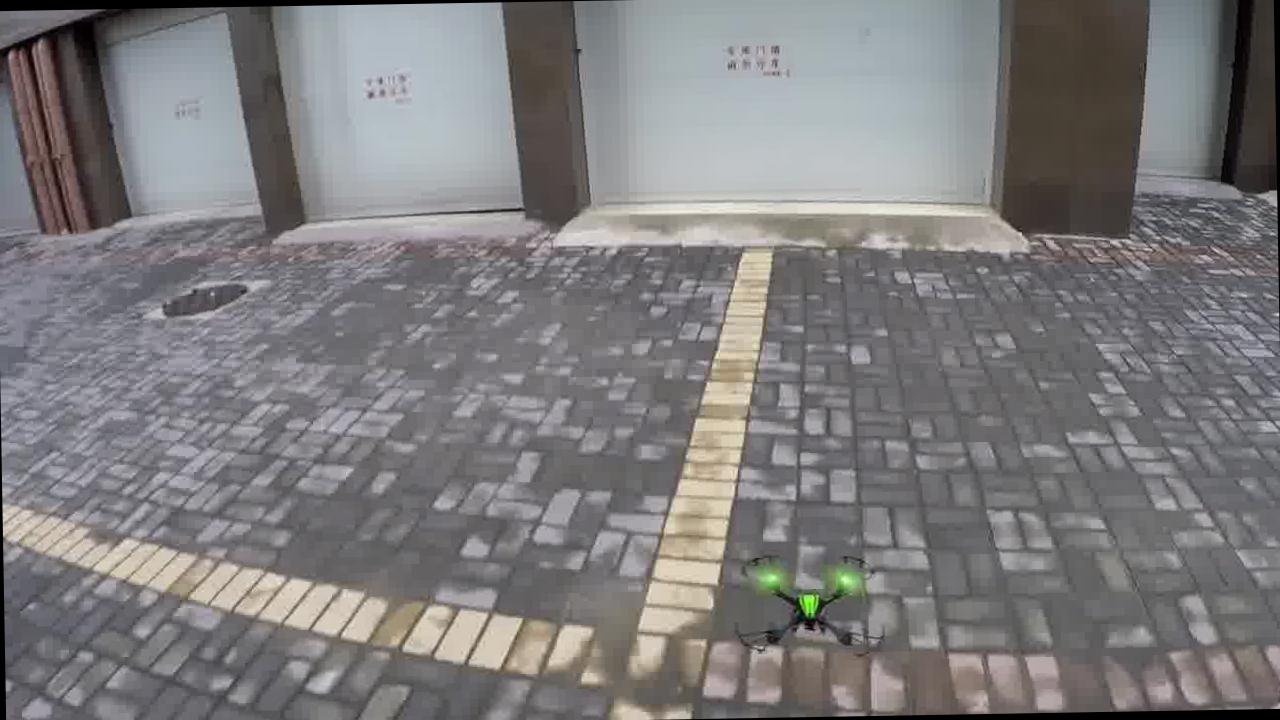drone: (718, 536, 898, 682)
